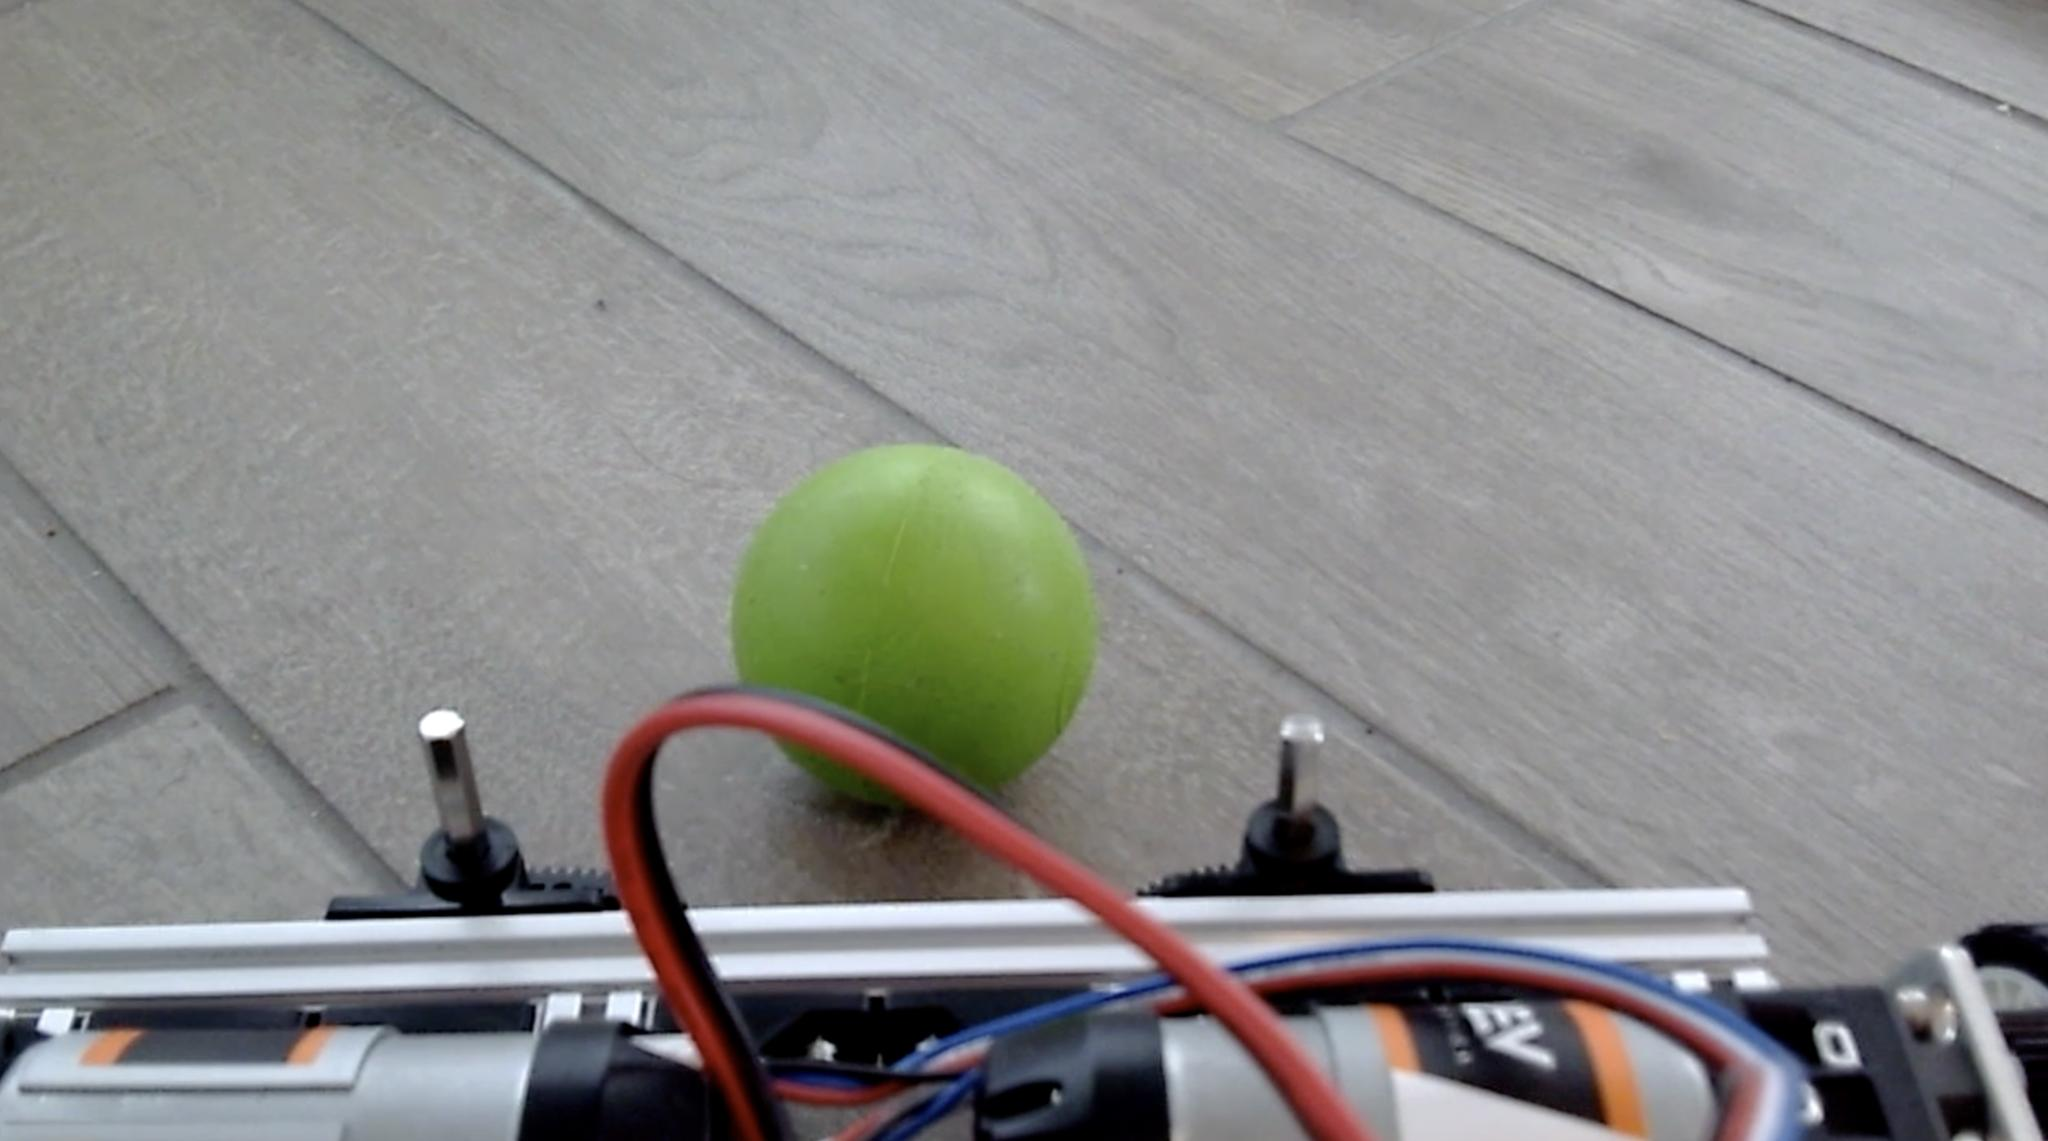Green Ball: (726, 437, 1100, 814)
